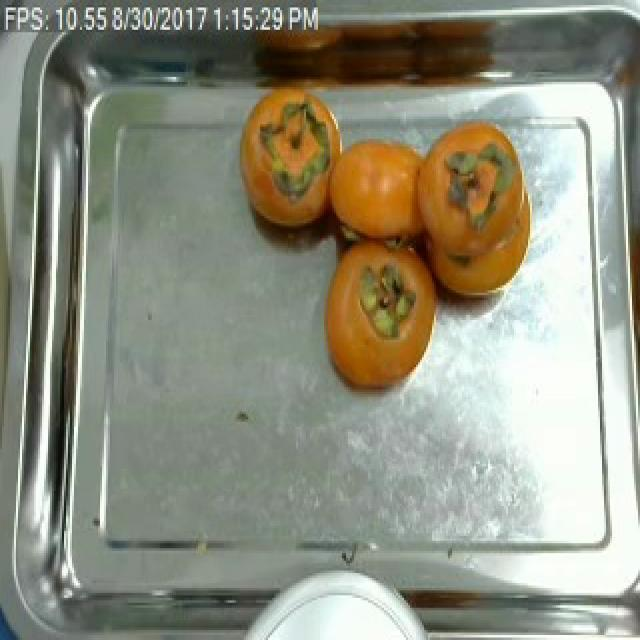Fruit: (314, 226, 444, 409), (314, 124, 460, 258), (230, 82, 340, 223)
